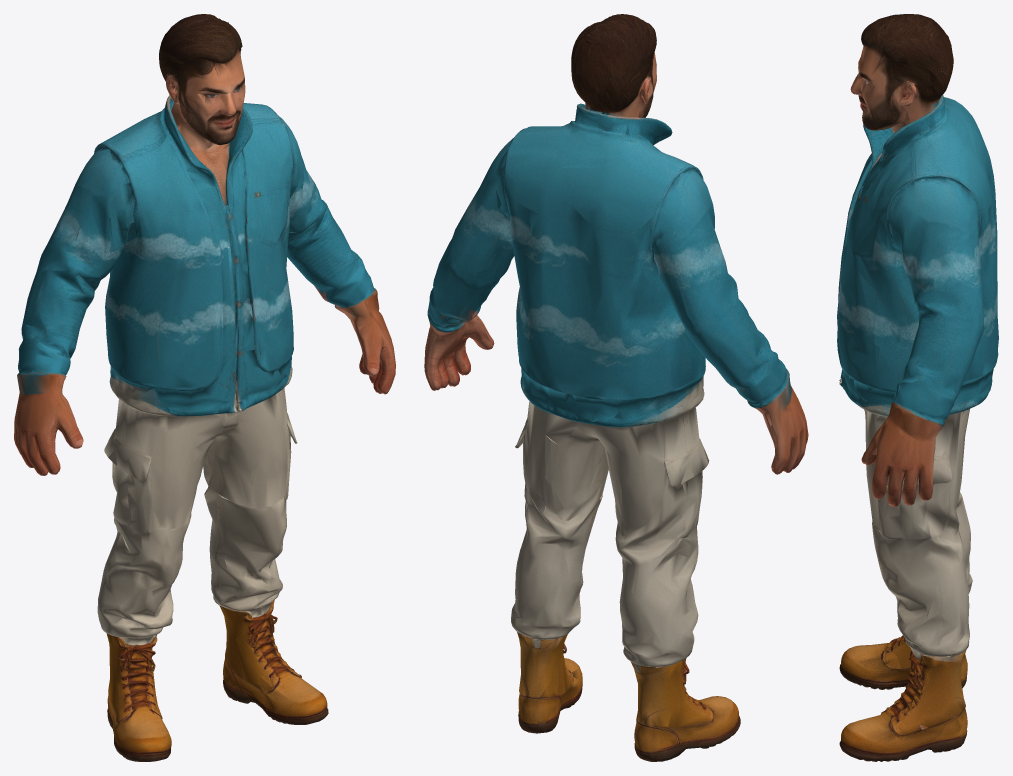
File: hunter-angler-khaki.glb
The picture shows the model from 3 angles, left to right: view 1: azimuth 30°, elevation 25°; view 2: azimuth 150°, elevation 25°; view 3: azimuth 270°, elevation 25°; orthographic projection.
Bounding box in the file's own units: 1.09 × 2 × 0.42.
1 material, 1 textured.
